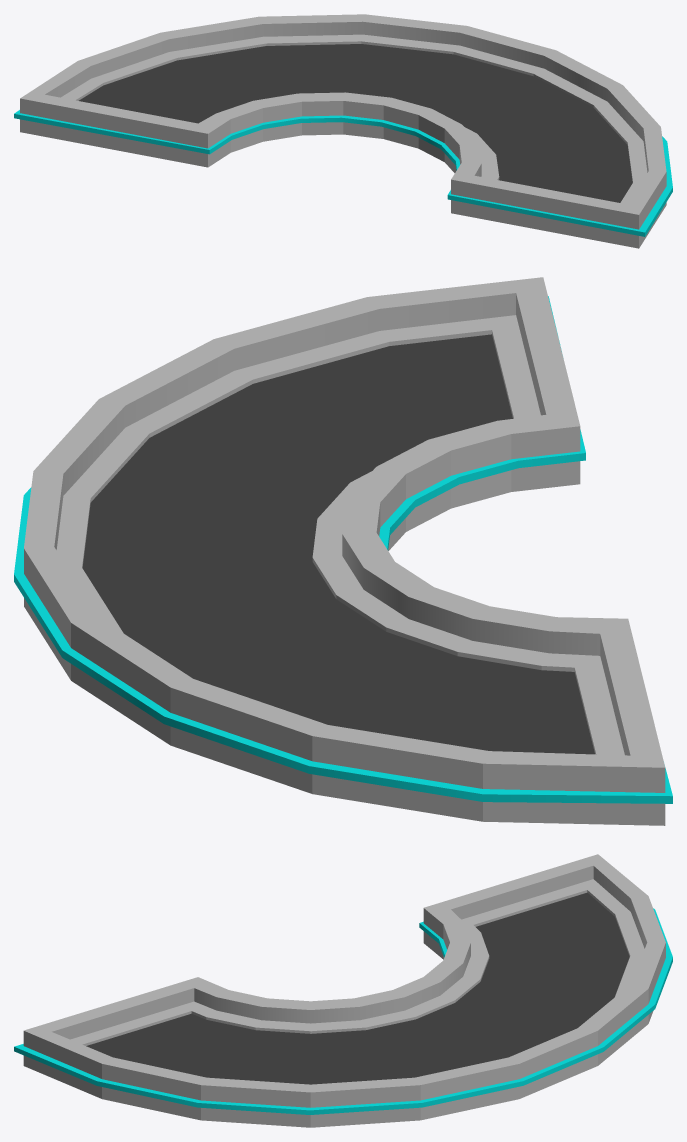
The model's file is MSH_CurvaNeon.fbx.
3 views of the same model, one above another, from view 1: azimuth 30°, elevation 25°; view 2: azimuth 150°, elevation 25°; view 3: azimuth 270°, elevation 25° (orthographic). The views are drawn at different scales.
Visible parts, largest first — view 1: pCylinder9; view 2: pCylinder9; view 3: pCylinder9.
Boxes of the visible parts, box(x1,y1,x2,y2) form: pCylinder9: box(14, 14, 672, 248); pCylinder9: box(14, 277, 672, 825); pCylinder9: box(14, 854, 672, 1127).
Size of the model in its own units: 15.86 by 1.07 by 18.14.
